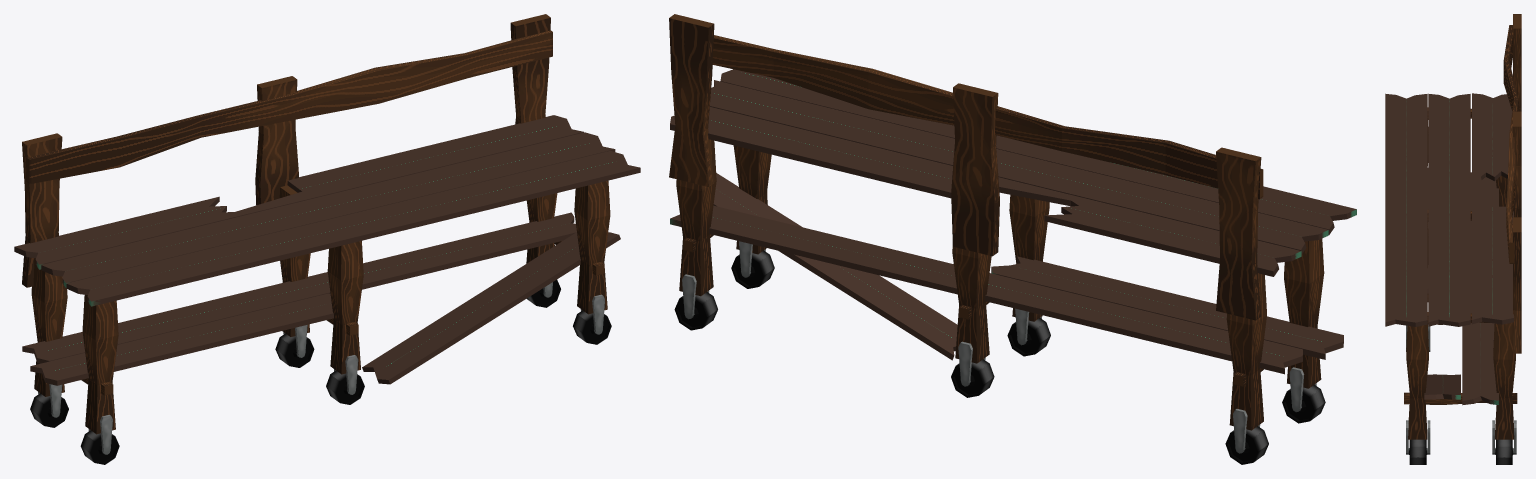
Rendered from WorkBench-1.fbx.
3 renders of one model, left to right at view 1: azimuth 30°, elevation 25°; view 2: azimuth 150°, elevation 25°; view 3: azimuth 270°, elevation 25°, orthographic. The views are drawn at different scales.
Visible parts, largest first — view 1: FloorBoard-1.007, Workbench-beam.010, FloorBoard-1.005, FloorBoard-1.008, FloorBoard-1.009, FloorBoard-1.012, FloorBoard-1.011, WorkbenchLegWithWheel.002, Workbench-beam.002, WorkbenchLegWithWheel.001, WorkbenchLegWithWheel, Workbench-beam.001 (+9 smaller); view 2: FloorBoard-1.009, FloorBoard-1.008, Workbench-beam.010, FloorBoard-1.005, FloorBoard-1.007, Workbench-beam.002, FloorBoard-1.011, Workbench-beam.001, Workbench-beam.015, FloorBoard-1.012, WorkbenchLegWithWheel.003, WorkbenchLegWithWheel.005 (+10 smaller); view 3: FloorBoard-1.007, FloorBoard-1.005, FloorBoard-1.008, FloorBoard-1.009, WorkbenchLegWithWheel.001, WorkbenchLegWithWheel.005, Workbench-beam.010, Workbench-beam.015, FloorBoard-1.012, Workbench-beam.002, Workbench-beam.001, Workbench-Wheel (+3 smaller).
Boxes of the visible parts, x1,y1,x2,y2 form: FloorBoard-1.007: (66,151,640,306); Workbench-beam.010: (26,30,552,184); FloorBoard-1.005: (41,132,615,287); FloorBoard-1.008: (14,115,583,269); FloorBoard-1.009: (22,212,576,363); FloorBoard-1.012: (362,232,620,384); FloorBoard-1.011: (30,293,333,385); WorkbenchLegWithWheel.002: (82,295,118,434); Workbench-beam.002: (255,76,298,205); WorkbenchLegWithWheel.001: (574,180,610,314); WorkbenchLegWithWheel: (327,240,363,374); Workbench-beam.001: (22,133,62,287); FloorBoard-1.009: (670,205,1302,374); FloorBoard-1.008: (670,107,1301,276); Workbench-beam.010: (712,35,1263,199); FloorBoard-1.005: (710,80,1328,254); FloorBoard-1.007: (720,69,1356,234); Workbench-beam.002: (951,83,999,256); FloorBoard-1.011: (991,256,1343,359); Workbench-beam.001: (1216,147,1261,320); Workbench-beam.015: (669,14,714,186); FloorBoard-1.012: (713,173,957,360); WorkbenchLegWithWheel.003: (1226,273,1266,430); WorkbenchLegWithWheel.005: (676,139,716,296); FloorBoard-1.007: (1385,93,1427,326); FloorBoard-1.005: (1428,93,1470,326); FloorBoard-1.008: (1472,93,1513,324); FloorBoard-1.009: (1462,172,1498,405); WorkbenchLegWithWheel.001: (1406,324,1428,439); WorkbenchLegWithWheel.005: (1493,322,1515,439); Workbench-beam.010: (1503,25,1518,263); Workbench-beam.015: (1513,217,1521,353); FloorBoard-1.012: (1424,374,1460,399); Workbench-beam.002: (1513,111,1521,217); Workbench-beam.001: (1513,14,1521,111); Workbench-Wheel: (1406,420,1430,464).
Bounding box in the file's own units: 3702 × 1735 × 899.
Materials: 3 (3 with a texture image).
